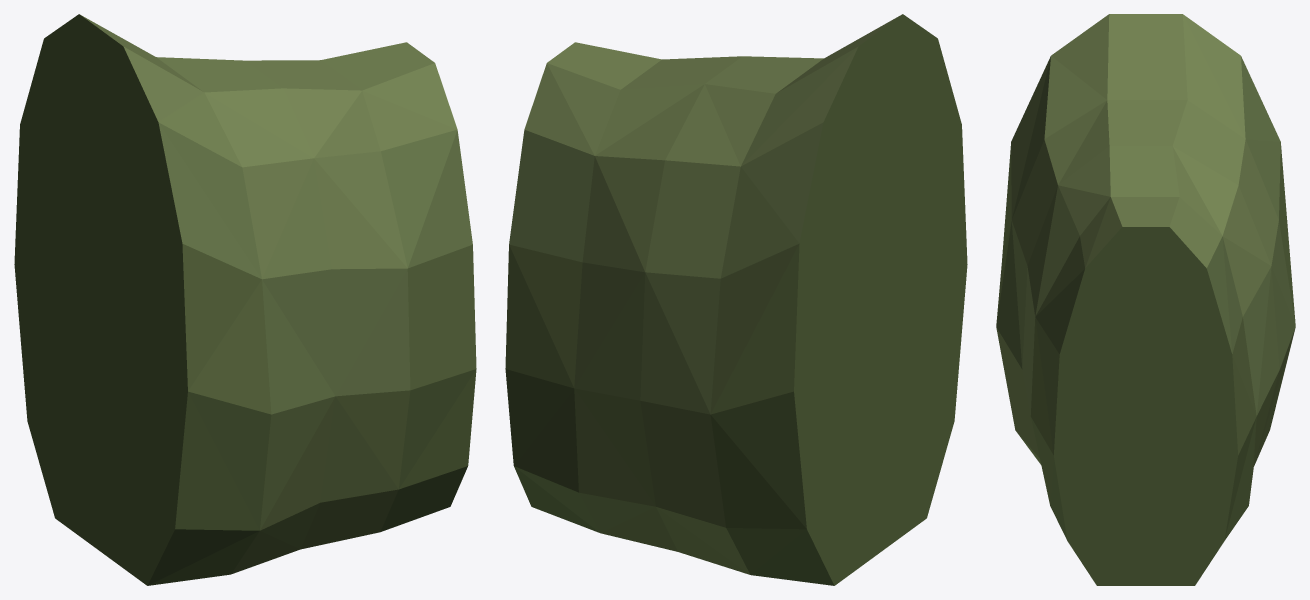
Rendered from lwf_hedge_gate_end_v1.glb.
3 renders of one model, left to right at view 1: azimuth 30°, elevation 25°; view 2: azimuth 150°, elevation 25°; view 3: azimuth 270°, elevation 25°, orthographic. The views are drawn at different scales.
Visible parts, largest first — view 1: lwf_hedge_gate_end_v1; view 2: lwf_hedge_gate_end_v1; view 3: lwf_hedge_gate_end_v1.
Part boxes in pixels (x1,y1,x2,y2): lwf_hedge_gate_end_v1: (14,14,476,585); lwf_hedge_gate_end_v1: (505,14,967,585); lwf_hedge_gate_end_v1: (996,14,1295,585).
Size of the model in its own units: 1 by 1.67 by 0.9775.
1 material, 1 textured.
